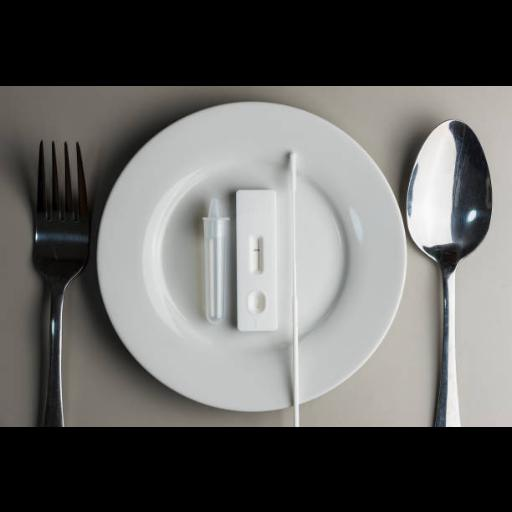Neg: (237, 190, 275, 328)
